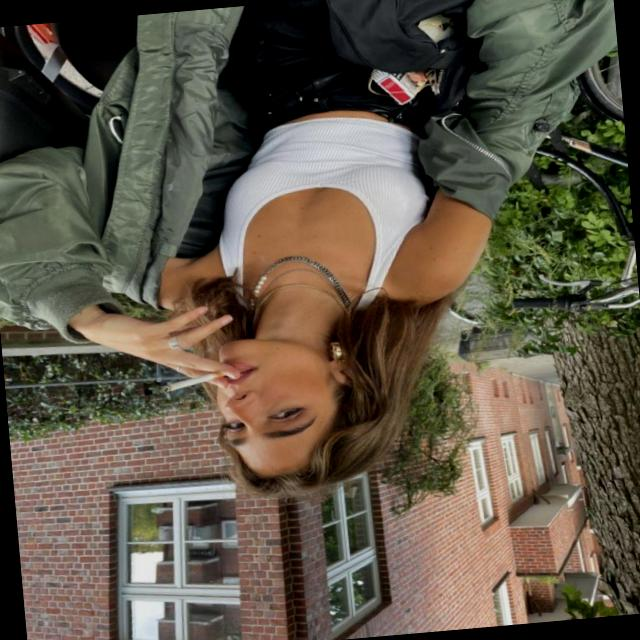cigarette: (154, 344, 274, 401)
